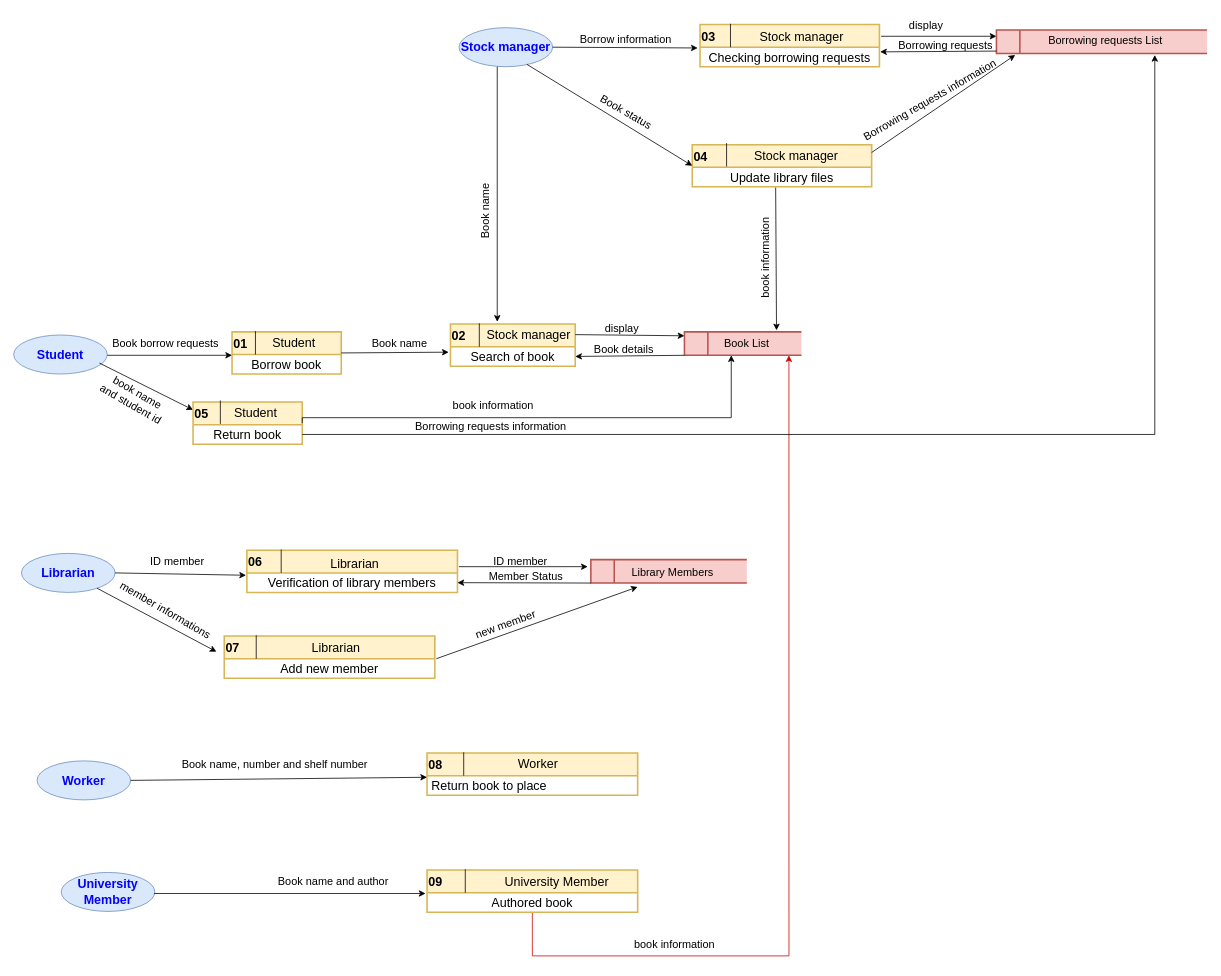
Some shapes in this 1221 by 976 pixel diagram are drawn without their labels. The shapes that lost their labels are listed below. From the top down, each one's box as (x1, y1, x2, y2) in pixels, then its label:
(995, 29, 1207, 54): M2
(683, 331, 802, 356): M1
(590, 558, 747, 583): M3
